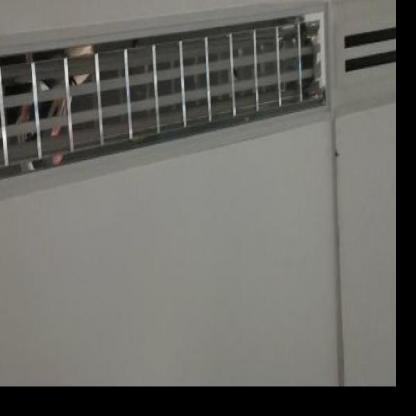light_off: (0, 0, 330, 200)
